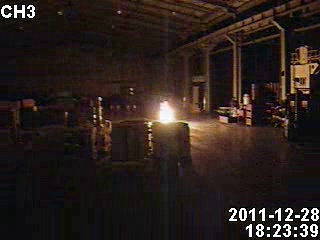fire: (154, 97, 177, 127)
